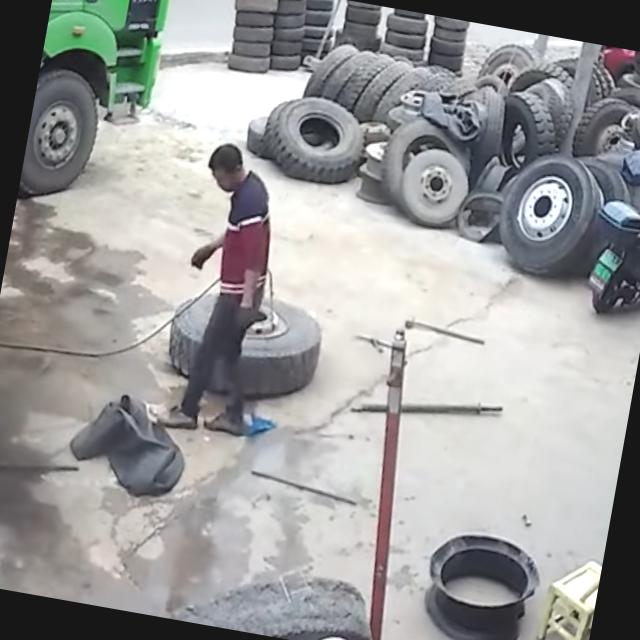person: (156, 133, 298, 435)
